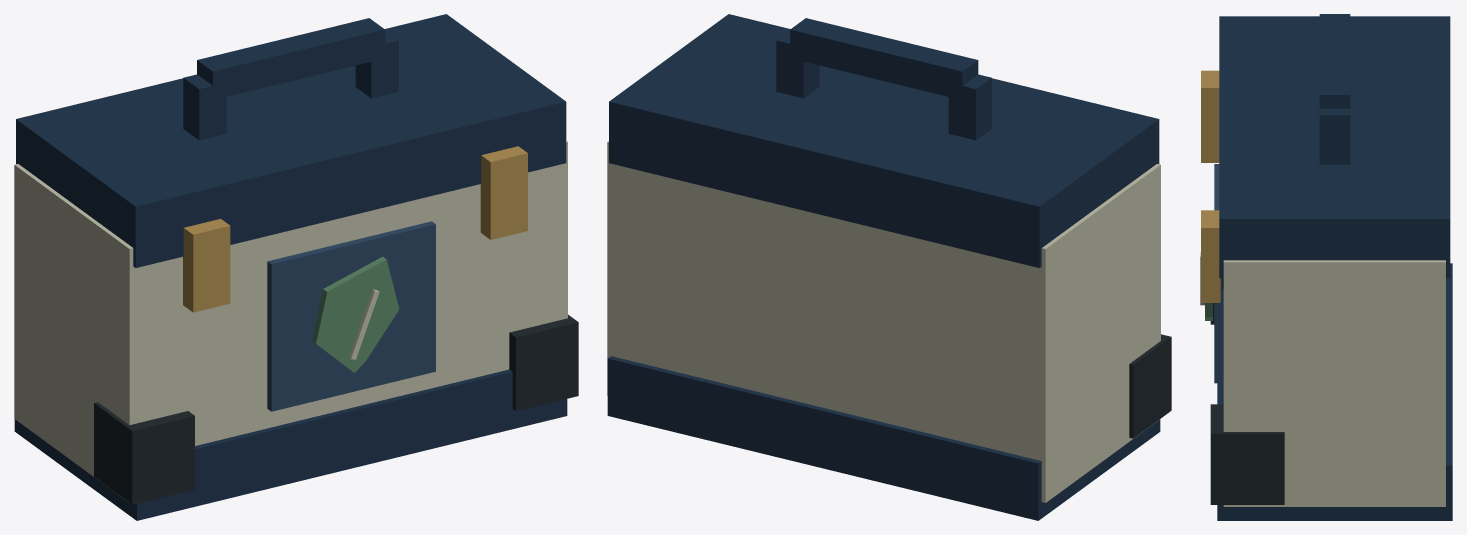
The model's file is MEDIC_CASE.shadow.glb.
The picture shows the model from 3 angles, left to right: view 1: azimuth 30°, elevation 25°; view 2: azimuth 150°, elevation 25°; view 3: azimuth 270°, elevation 25°; orthographic projection. The views are drawn at different scales.
Parts seen in each view (by area): view 1: Body_Mesh; view 2: Body_Mesh; view 3: Body_Mesh.
Boxes of the visible parts, x1=… form: Body_Mesh: x1=14, y1=14, x2=578, y2=520; Body_Mesh: x1=607, y1=14, x2=1171, y2=520; Body_Mesh: x1=1200, y1=14, x2=1452, y2=520.
Size of the model in its own units: 1.14 by 0.925 by 0.5786.
